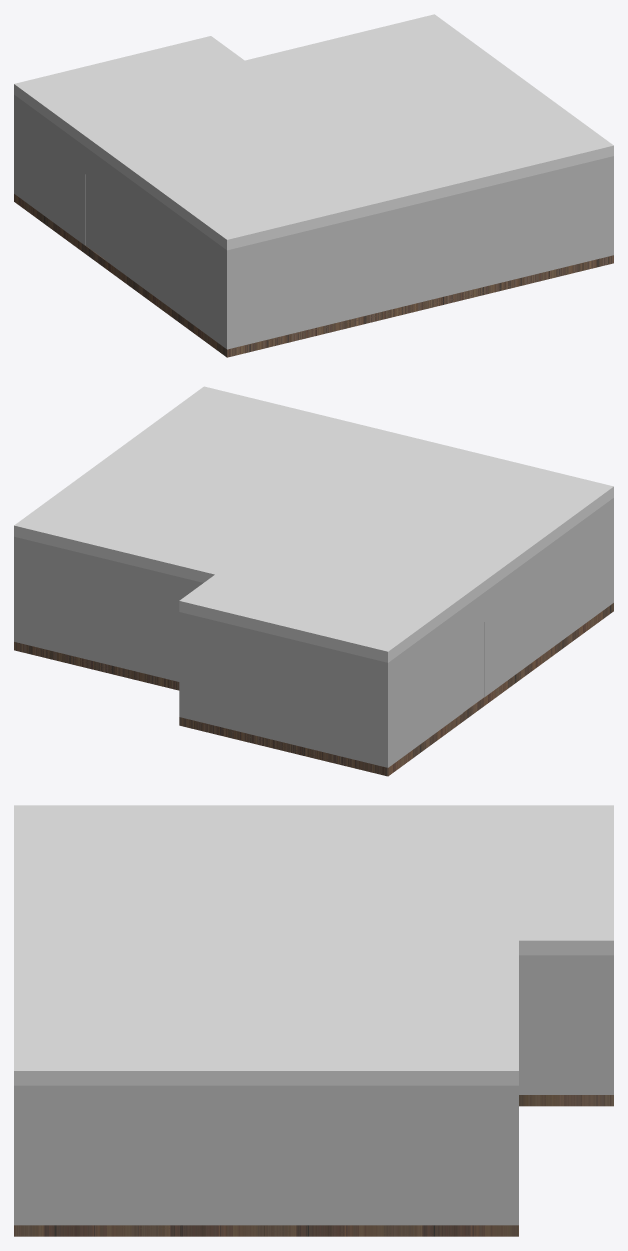
The model's file is gallery 02.fbx.
The picture shows the model from 3 angles, top to bottom: view 1: azimuth 30°, elevation 25°; view 2: azimuth 150°, elevation 25°; view 3: azimuth 270°, elevation 25°; orthographic projection. The views are drawn at different scales.
Parts seen in each view (by area): view 1: Extrude_1, Cube_3_2, Cube_1_door, Floor, Cube_6_2; view 2: Extrude_1, Cube_1_door, Cube_4_2, Cube_5_2, Floor, Cube_6_2; view 3: Extrude_1, Cube_1_2, Cube_3_3, Floor.
Part boxes in pixels (x1=…): Extrude_1: x1=14, y1=14, x2=613, y2=250; Cube_3_2: x1=227, y1=156, x2=613, y2=349; Cube_1_door: x1=14, y1=94, x2=226, y2=348; Floor: x1=14, y1=194, x2=613, y2=357; Cube_6_2: x1=85, y1=174, x2=104, y2=258; Extrude_1: x1=14, y1=386, x2=613, y2=662; Cube_1_door: x1=388, y1=498, x2=613, y2=767; Cube_4_2: x1=179, y1=612, x2=387, y2=767; Cube_5_2: x1=14, y1=536, x2=202, y2=681; Floor: x1=14, y1=603, x2=613, y2=776; Cube_6_2: x1=463, y1=622, x2=483, y2=711; Extrude_1: x1=14, y1=805, x2=613, y2=1085; Cube_1_2: x1=14, y1=1085, x2=518, y2=1225; Cube_3_3: x1=519, y1=955, x2=613, y2=1094; Floor: x1=14, y1=1095, x2=613, y2=1236.
Bounding box in the file's own units: 1645 × 479 × 1570.
